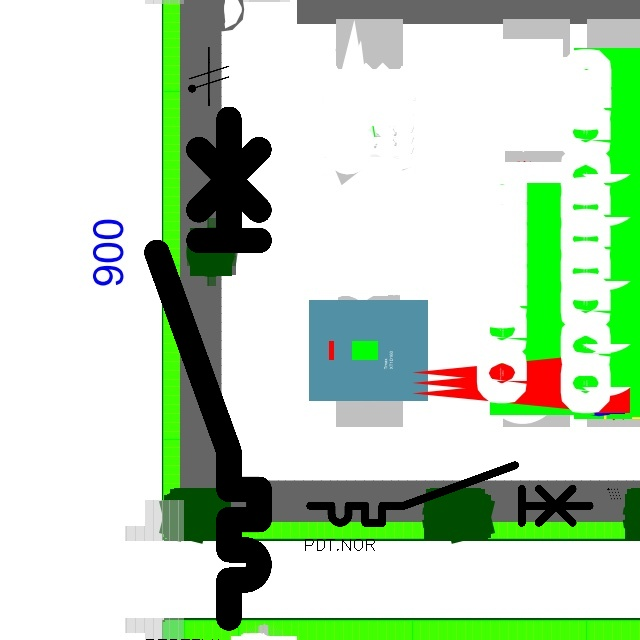interruptor_termomagnetico: (144, 106, 272, 631), (303, 458, 596, 530)
